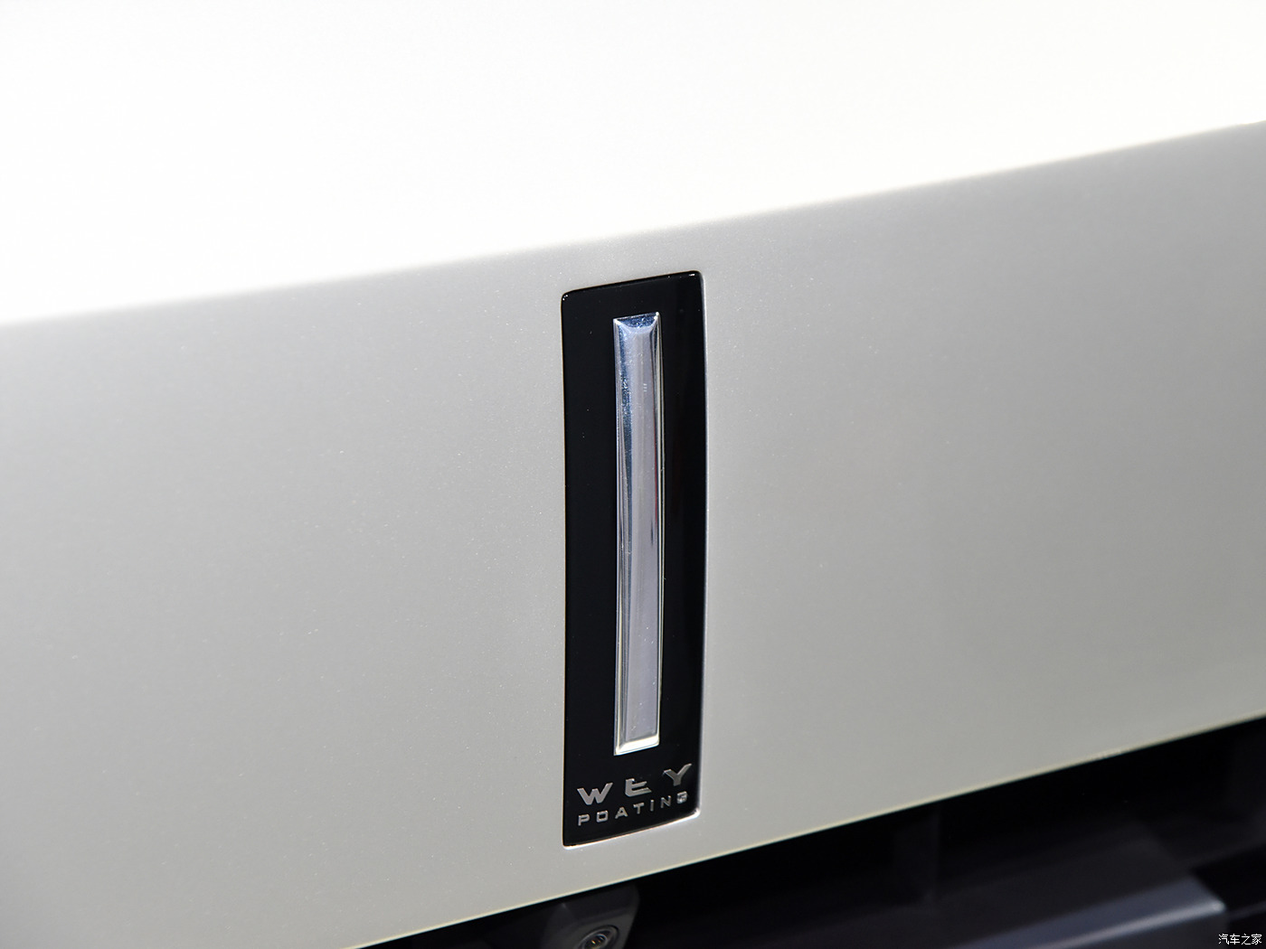WEY: (562, 269, 707, 846)
